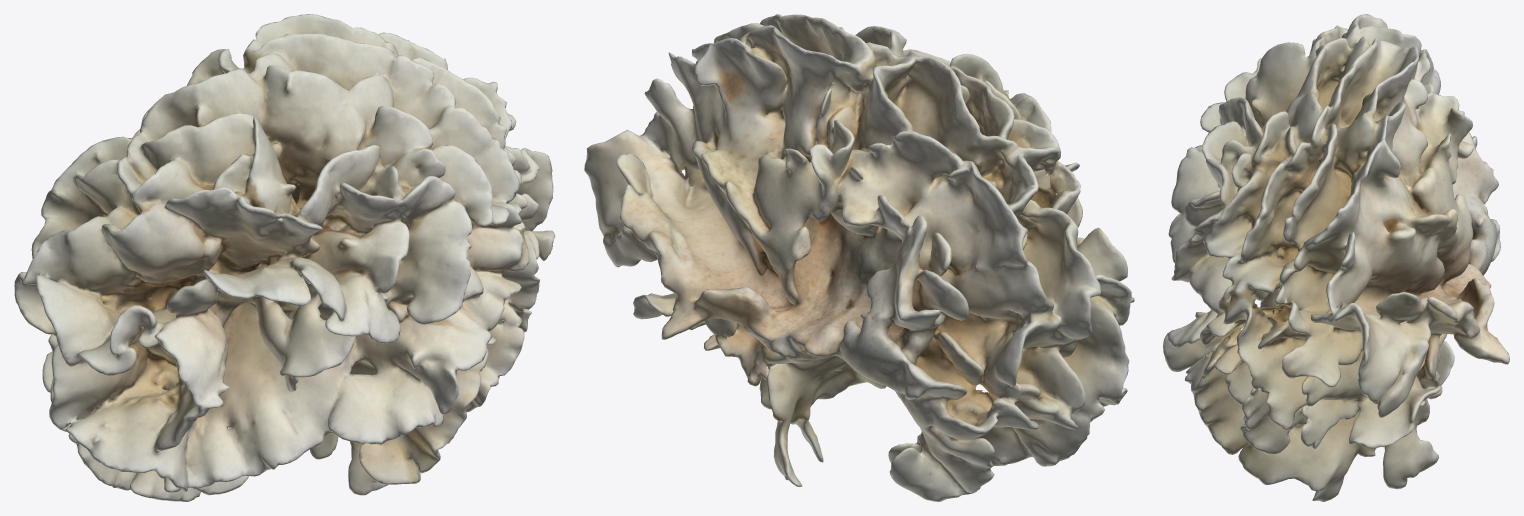
File: pavona-cactus-74851.glb
3 views of the same model, side by side, from view 1: azimuth 30°, elevation 25°; view 2: azimuth 150°, elevation 25°; view 3: azimuth 270°, elevation 25° (orthographic). The views are drawn at different scales.
Bounding box in the file's own units: 0.1535 × 0.1281 × 0.0922.
1 material, 1 textured.
